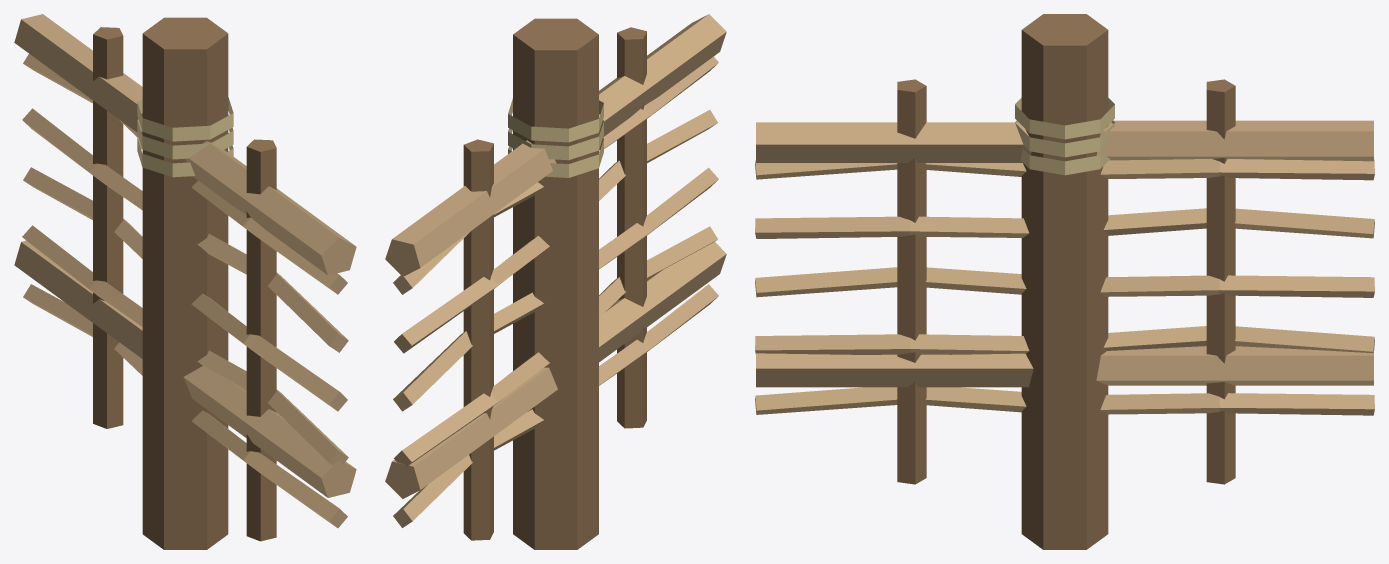
File: pen_fence_05.glb
3 views of the same model, side by side, from view 1: azimuth 30°, elevation 25°; view 2: azimuth 150°, elevation 25°; view 3: azimuth 270°, elevation 25° (orthographic).
Visible parts, largest first — view 1: pen_fence_05; view 2: pen_fence_05; view 3: pen_fence_05.
Part boxes in pixels (x1=…): pen_fence_05: x1=14, y1=14, x2=356, y2=549; pen_fence_05: x1=385, y1=14, x2=726, y2=549; pen_fence_05: x1=755, y1=14, x2=1374, y2=549.
Bounding box in the file's own units: 0.162 × 0.9 × 1.
